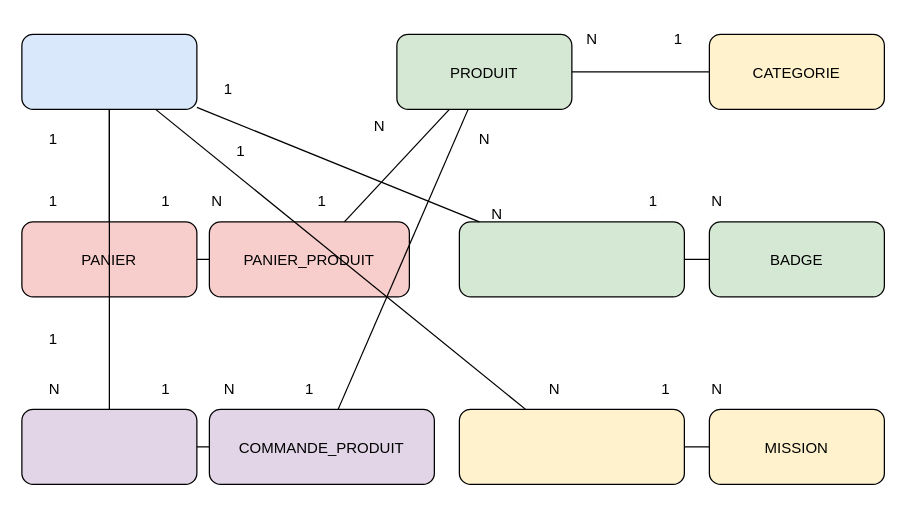
Some shapes in this 906 by 506 pixel diagram are drawn without their labels. Here are the shapes that lost their labels. From the top down, the centre of each, then its label:
At point (109, 71): "UTILISATEUR".
At point (571, 259): "UTILISATEUR_BADGE".
At point (109, 446): "COMMANDE".
At point (571, 446): "UTILISATEUR_MISSION".
